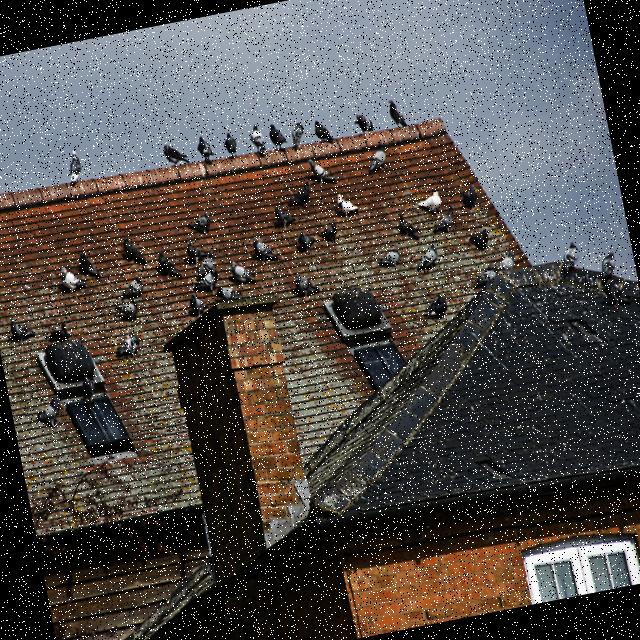bird: (41, 332, 100, 389), (593, 250, 625, 310), (32, 393, 67, 434), (478, 251, 516, 287), (553, 239, 585, 280), (306, 153, 338, 190), (120, 232, 150, 271), (160, 138, 192, 174), (426, 202, 458, 238), (414, 188, 446, 222), (7, 313, 38, 348), (249, 232, 280, 267), (191, 253, 220, 290), (284, 180, 316, 213), (188, 266, 221, 298), (57, 262, 88, 296), (411, 242, 442, 276), (312, 116, 339, 153), (183, 210, 214, 242), (395, 210, 422, 246), (112, 331, 143, 362), (228, 258, 258, 290), (422, 292, 452, 324), (292, 270, 322, 301), (64, 147, 86, 186), (466, 226, 494, 256), (334, 188, 360, 220), (364, 146, 391, 176), (386, 96, 409, 131), (77, 250, 102, 282), (194, 132, 217, 166), (272, 202, 298, 232), (458, 183, 482, 215), (266, 120, 289, 153), (213, 282, 244, 306), (44, 321, 72, 347), (315, 220, 341, 248), (376, 246, 404, 272), (188, 290, 212, 320), (194, 249, 219, 277), (294, 228, 319, 256), (184, 237, 207, 267), (248, 122, 268, 156), (352, 110, 376, 138), (495, 248, 519, 276), (472, 266, 500, 290), (221, 130, 241, 162), (288, 120, 308, 150)
